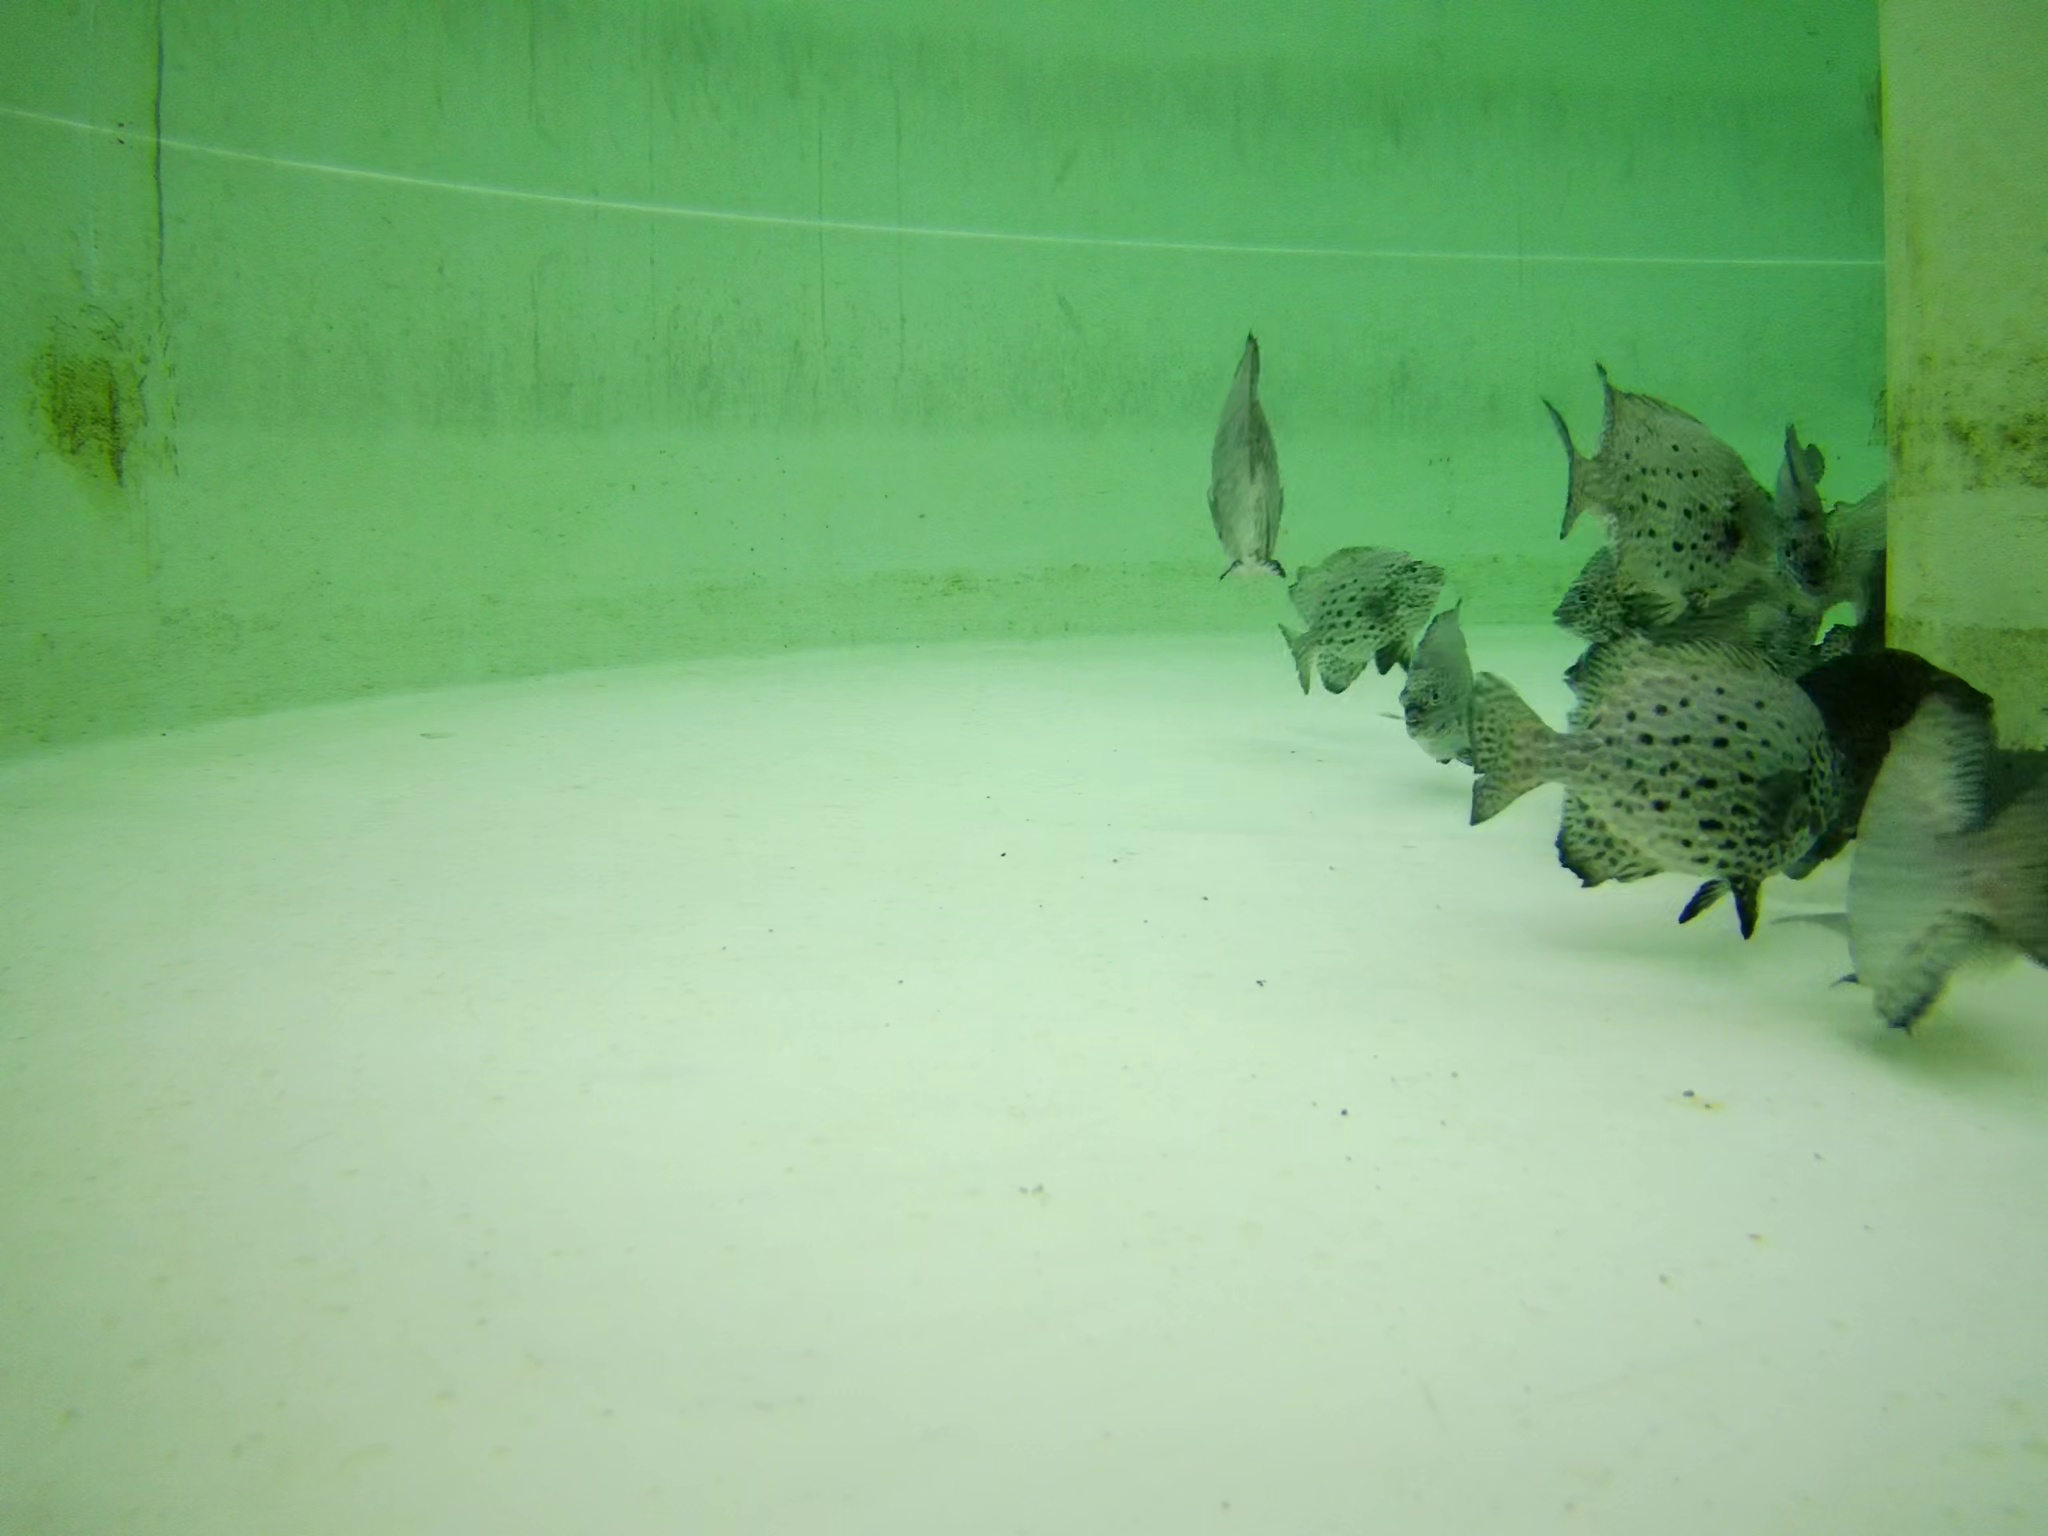fish: (1463, 632, 1840, 886), (1840, 695, 2048, 1015), (1543, 369, 1777, 605), (1272, 539, 1443, 691), (1193, 329, 1297, 550), (1548, 544, 1717, 639), (1771, 440, 1845, 610), (1400, 611, 1479, 760)
